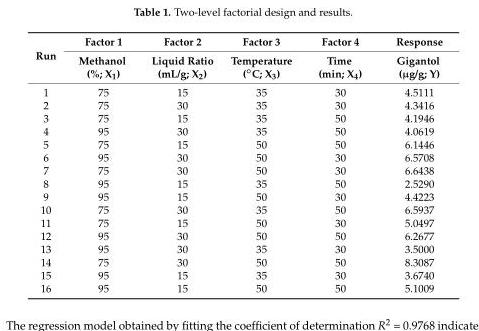table: (34, 34, 441, 294)
table column: (137, 34, 221, 294), (221, 34, 304, 294), (304, 34, 378, 294), (66, 34, 137, 294), (378, 34, 441, 294), (34, 34, 66, 294)
table column header: (34, 34, 441, 82)
table row: (34, 50, 441, 82), (34, 34, 441, 50), (34, 82, 441, 98), (34, 241, 441, 255), (34, 98, 441, 111), (34, 111, 441, 124), (34, 124, 441, 137), (34, 137, 441, 150), (34, 150, 441, 163), (34, 163, 441, 176), (34, 176, 441, 189), (34, 189, 441, 202), (34, 202, 441, 215), (34, 215, 441, 228), (34, 228, 441, 241), (34, 255, 441, 268), (34, 268, 441, 281), (34, 281, 441, 294)
table spanning cell: (137, 34, 221, 82), (221, 34, 304, 82), (304, 34, 378, 82), (66, 34, 137, 82), (378, 34, 441, 82), (34, 34, 66, 82)
